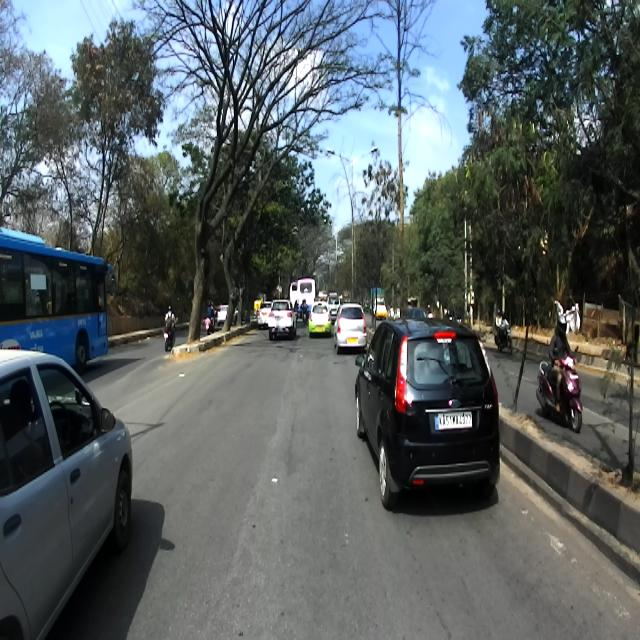car ahead at: (0, 343, 136, 637), (355, 306, 513, 524)
